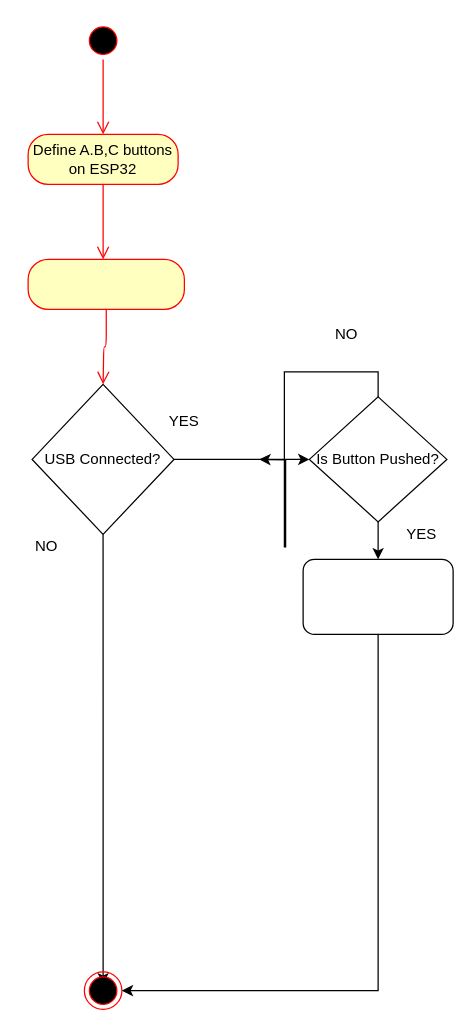
This 475x1031 diagram has some shape labels left out. The centre of each missing label's shape, as x and y in pixels:
"Define and Connect to the pin for the sensors" belongs at [105,283].
"Display Temp (in F) and Humidity (%)" belongs at [377,596].
